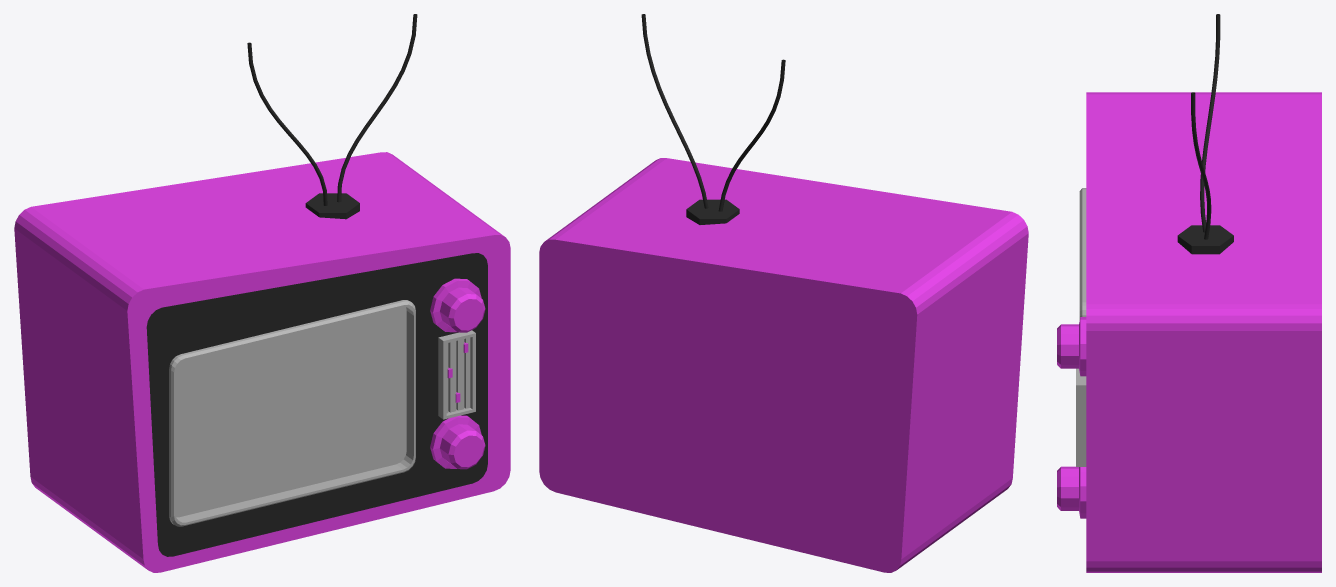
3 views of the same model, side by side, from view 1: azimuth 30°, elevation 25°; view 2: azimuth 150°, elevation 25°; view 3: azimuth 270°, elevation 25° (orthographic). The views are drawn at different scales.
Visible parts, largest first — view 1: Body, Screen, Body.001, Lots de Buttons, Gros Button 1, Gros Button 2, Base, BezierCurve, BezierCurve.001; view 2: Body, Base, BezierCurve, BezierCurve.001; view 3: Body.001, Body, Gros Button 1, Gros Button 2, Base, Lots de Buttons, Screen, BezierCurve.001, BezierCurve.
Part boxes in pixels (x1,y1,x2,y2): Body: [14, 152, 510, 572]; Screen: [169, 300, 415, 526]; Body.001: [146, 253, 487, 556]; Lots de Buttons: [438, 330, 475, 419]; Gros Button 1: [430, 278, 485, 332]; Gros Button 2: [430, 415, 485, 469]; Base: [305, 193, 359, 219]; BezierCurve: [337, 14, 417, 202]; BezierCurve.001: [247, 42, 327, 205]; Body: [539, 158, 1028, 572]; Base: [686, 199, 739, 224]; BezierCurve: [641, 14, 708, 208]; BezierCurve.001: [718, 59, 785, 211]; Body.001: [1086, 331, 1321, 572]; Body: [1086, 92, 1321, 330]; Gros Button 1: [1057, 317, 1086, 376]; Gros Button 2: [1057, 466, 1086, 518]; Base: [1177, 225, 1233, 254]; Lots de Buttons: [1076, 368, 1086, 466]; Screen: [1079, 188, 1086, 319]; BezierCurve.001: [1200, 14, 1220, 232]; BezierCurve: [1191, 92, 1211, 239].
Bounding box in the file's own units: 470 × 522 × 270.
